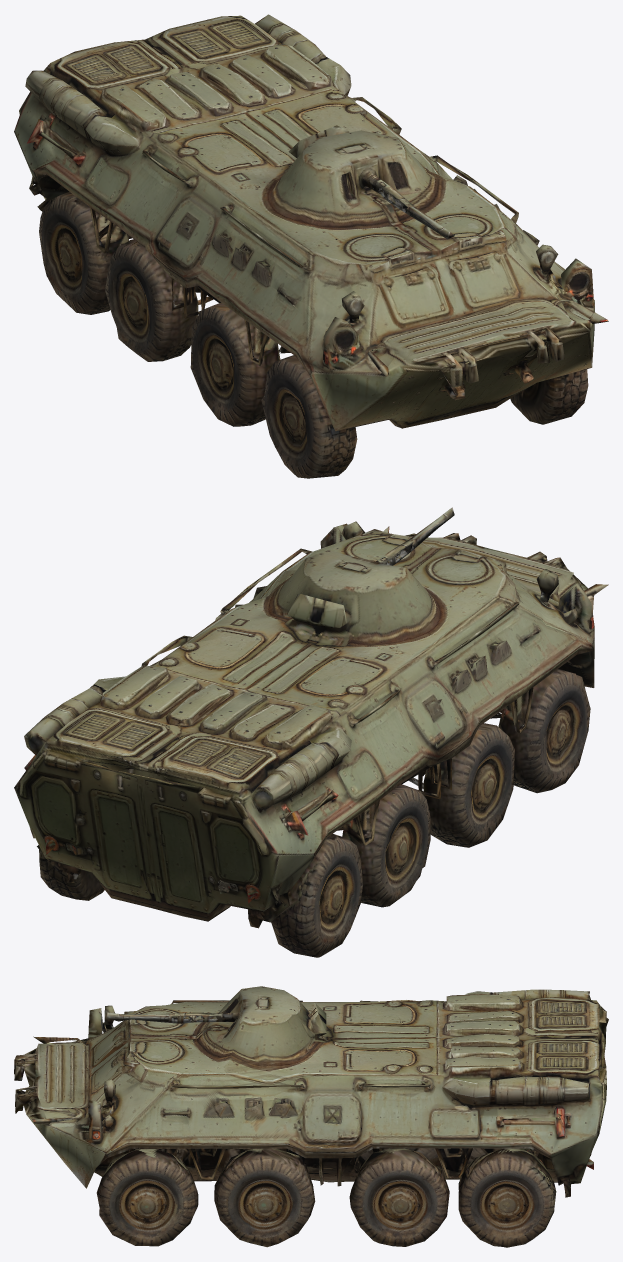
The model's file is Vehicle_BTR80.fbx.
3 views of the same model, one above another, from view 1: azimuth 30°, elevation 25°; view 2: azimuth 150°, elevation 25°; view 3: azimuth 270°, elevation 25° (orthographic). The views are drawn at different scales.
Visible parts, largest first — view 1: texture_mapping; view 2: texture_mapping; view 3: texture_mapping.
Boxes of the visible parts, bbox=[...] form: texture_mapping: bbox=[14, 14, 608, 478]; texture_mapping: bbox=[14, 507, 608, 957]; texture_mapping: bbox=[14, 986, 608, 1247].
Bounding box in the file's own units: 0.4468 × 0.9924 × 0.3604.
Materials: 1 (1 with a texture image).
